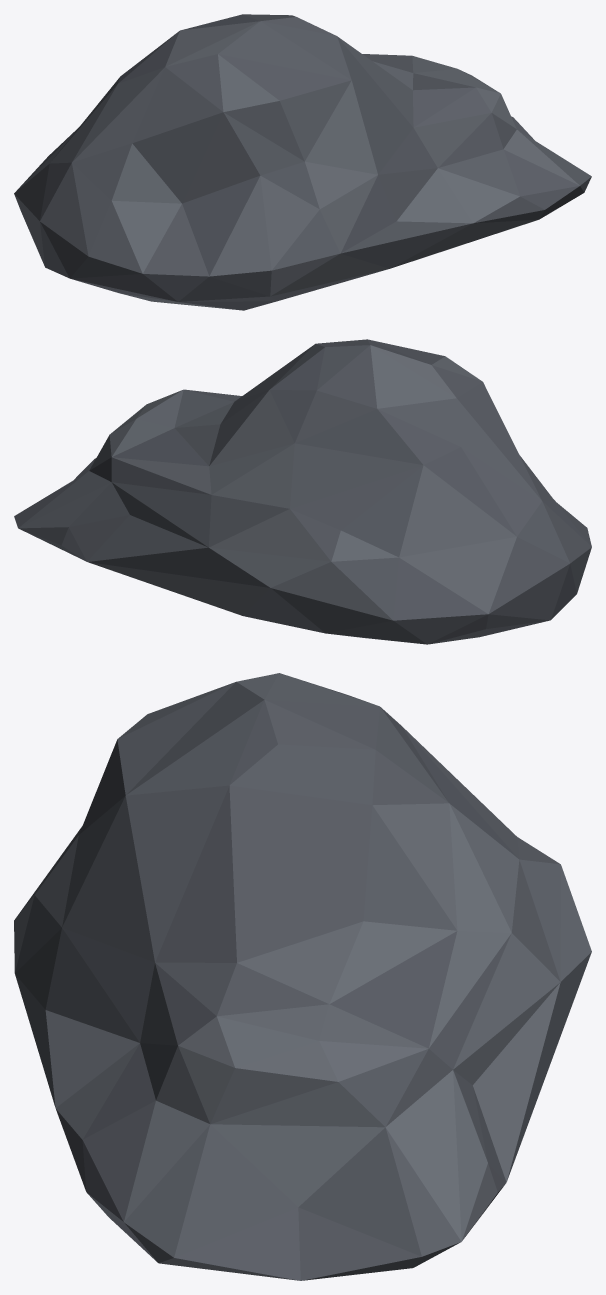
The model's file is WF_LP_HT_Environment_Cloud.003.fbx.
3 views of the same model, one above another, from view 1: azimuth 30°, elevation 25°; view 2: azimuth 150°, elevation 25°; view 3: azimuth 270°, elevation 25° (orthographic). The views are drawn at different scales.
Visible parts, largest first — view 1: WF_LP_HT_Environment_Cloud.003; view 2: WF_LP_HT_Environment_Cloud.003; view 3: WF_LP_HT_Environment_Cloud.003.
Part boxes in pixels (<box>): WF_LP_HT_Environment_Cloud.003: <box>14,14,591,310</box>; WF_LP_HT_Environment_Cloud.003: <box>14,339,591,644</box>; WF_LP_HT_Environment_Cloud.003: <box>14,673,591,1280</box>.
Bounding box in the file's own units: 3.32 × 1.6 × 2.06.
